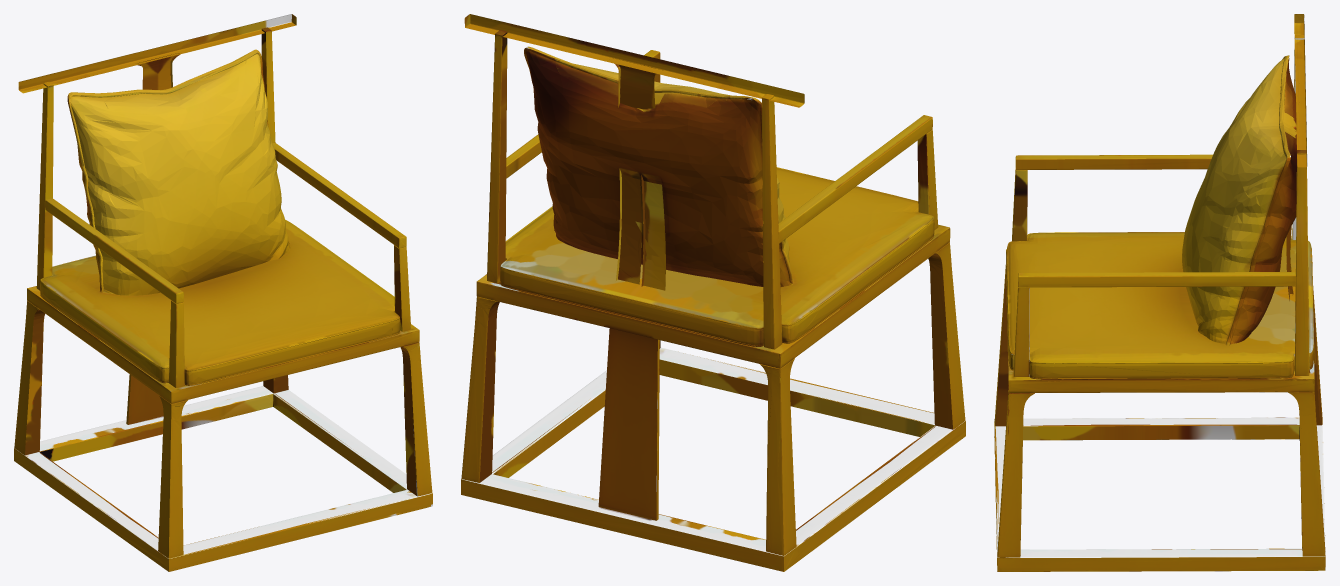
The model's file is edited_mesh.glb.
The picture shows the model from 3 angles, left to right: view 1: azimuth 30°, elevation 25°; view 2: azimuth 150°, elevation 25°; view 3: azimuth 270°, elevation 25°; orthographic projection. The views are drawn at different scales.
Parts seen in each view (by area): view 1: solid_001_wire; view 2: solid_001_wire; view 3: solid_001_wire.
Part boxes in pixels (bbox=[...]): solid_001_wire: bbox=[14, 14, 432, 571]; solid_001_wire: bbox=[461, 14, 965, 571]; solid_001_wire: bbox=[994, 14, 1325, 571].
Bounding box in the file's own units: 1.08 × 1.46 × 1.05.
Materials: 1 (1 with a texture image).
